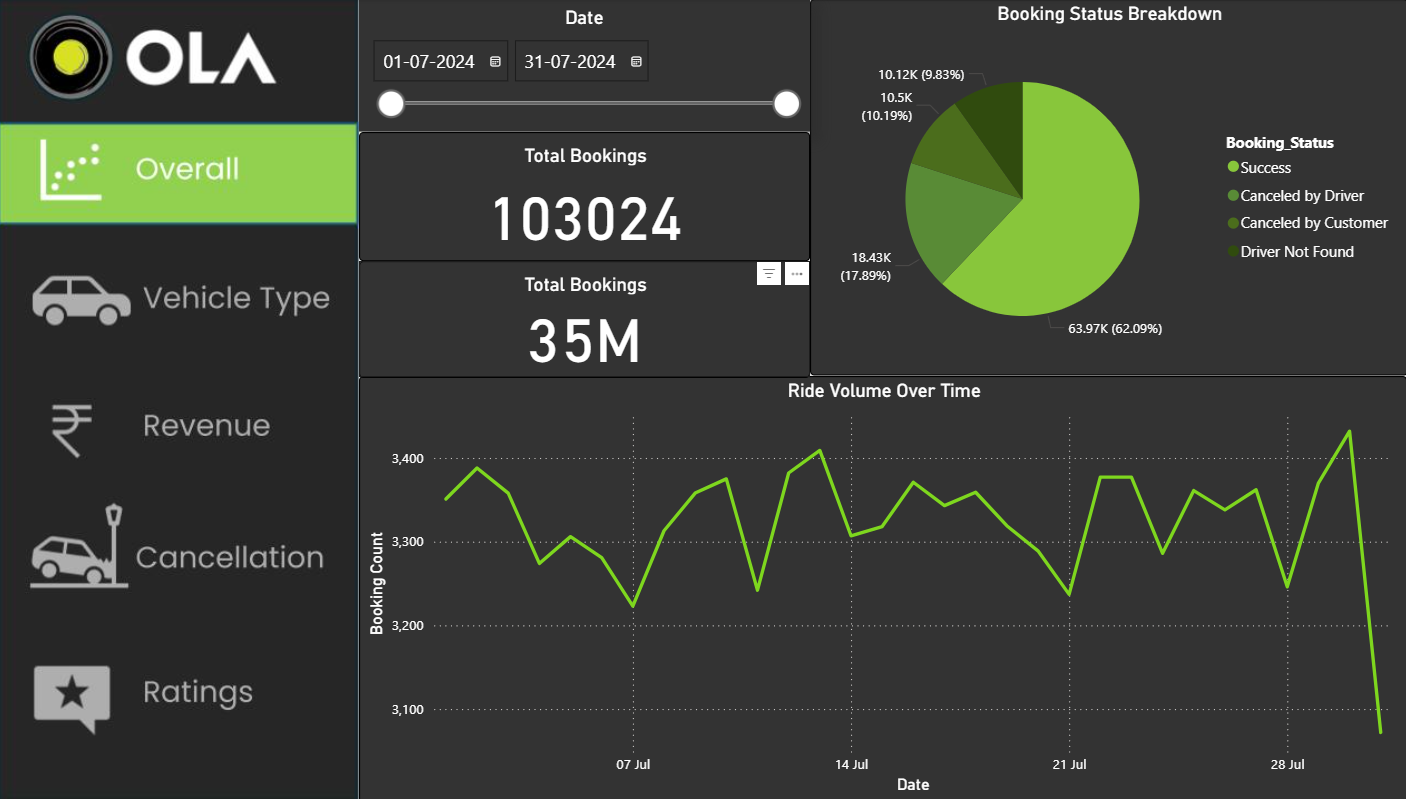

This screenshot's page, from the dashboard's own definition file:
{"tool":"powerbi","page":{"name":"Overall","canvas":[1280,720],"ordinal":0},"visuals":[{"type":"actionButton","box":[0,222.3,323.8,92],"z":0},{"type":"actionButton","box":[0,339.2,323.8,92],"z":1000},{"type":"actionButton","box":[0,456,323.8,92],"z":2000},{"type":"actionButton","box":[0,584.4,323.8,92],"z":3000},{"type":"lineChart","title":"Ride Volume Over Time","fields":{"Y":["CountNonNull(July (2).Booking_ID)"],"Category":["July (2).Date"]},"box":[323.8,338.1,941.3,382.5],"z":4000},{"type":"pieChart","title":"Booking Status Breakdown","fields":{"Category":["July (2).Booking_Status"],"Y":["CountNonNull(July (2).Booking_Status)"]},"box":[728.6,0,536.5,338.1],"z":5000},{"type":"slicer","title":"Date","fields":{"Values":["July (2).Date"]},"box":[323.8,0,404.8,119],"z":6000},{"type":"card","title":"Total Bookings","fields":{"Values":["CountNonNull(July (2).Booking_ID)"]},"box":[324.2,119.2,405.1,116.2],"z":7000},{"type":"card","title":"Total Bookings","fields":{"Values":["Sum(July (2).Booking_Value)"]},"box":[323.8,234.9,404.8,104.8],"z":8000}]}

Visuals, with their boxes in screenshot pixels (x1, y1, x2, y2), scaled from the page's 1280x720 canvas onto the 1406x799 screenshot:
actionButton: region(0, 247, 356, 349)
actionButton: region(0, 376, 356, 479)
actionButton: region(0, 506, 356, 608)
actionButton: region(0, 649, 356, 751)
"Ride Volume Over Time" lineChart: region(356, 375, 1390, 798)
"Booking Status Breakdown" pieChart: region(800, 0, 1390, 375)
"Date" slicer: region(356, 0, 800, 132)
"Total Bookings" card: region(356, 132, 801, 261)
"Total Bookings" card: region(356, 261, 800, 377)
